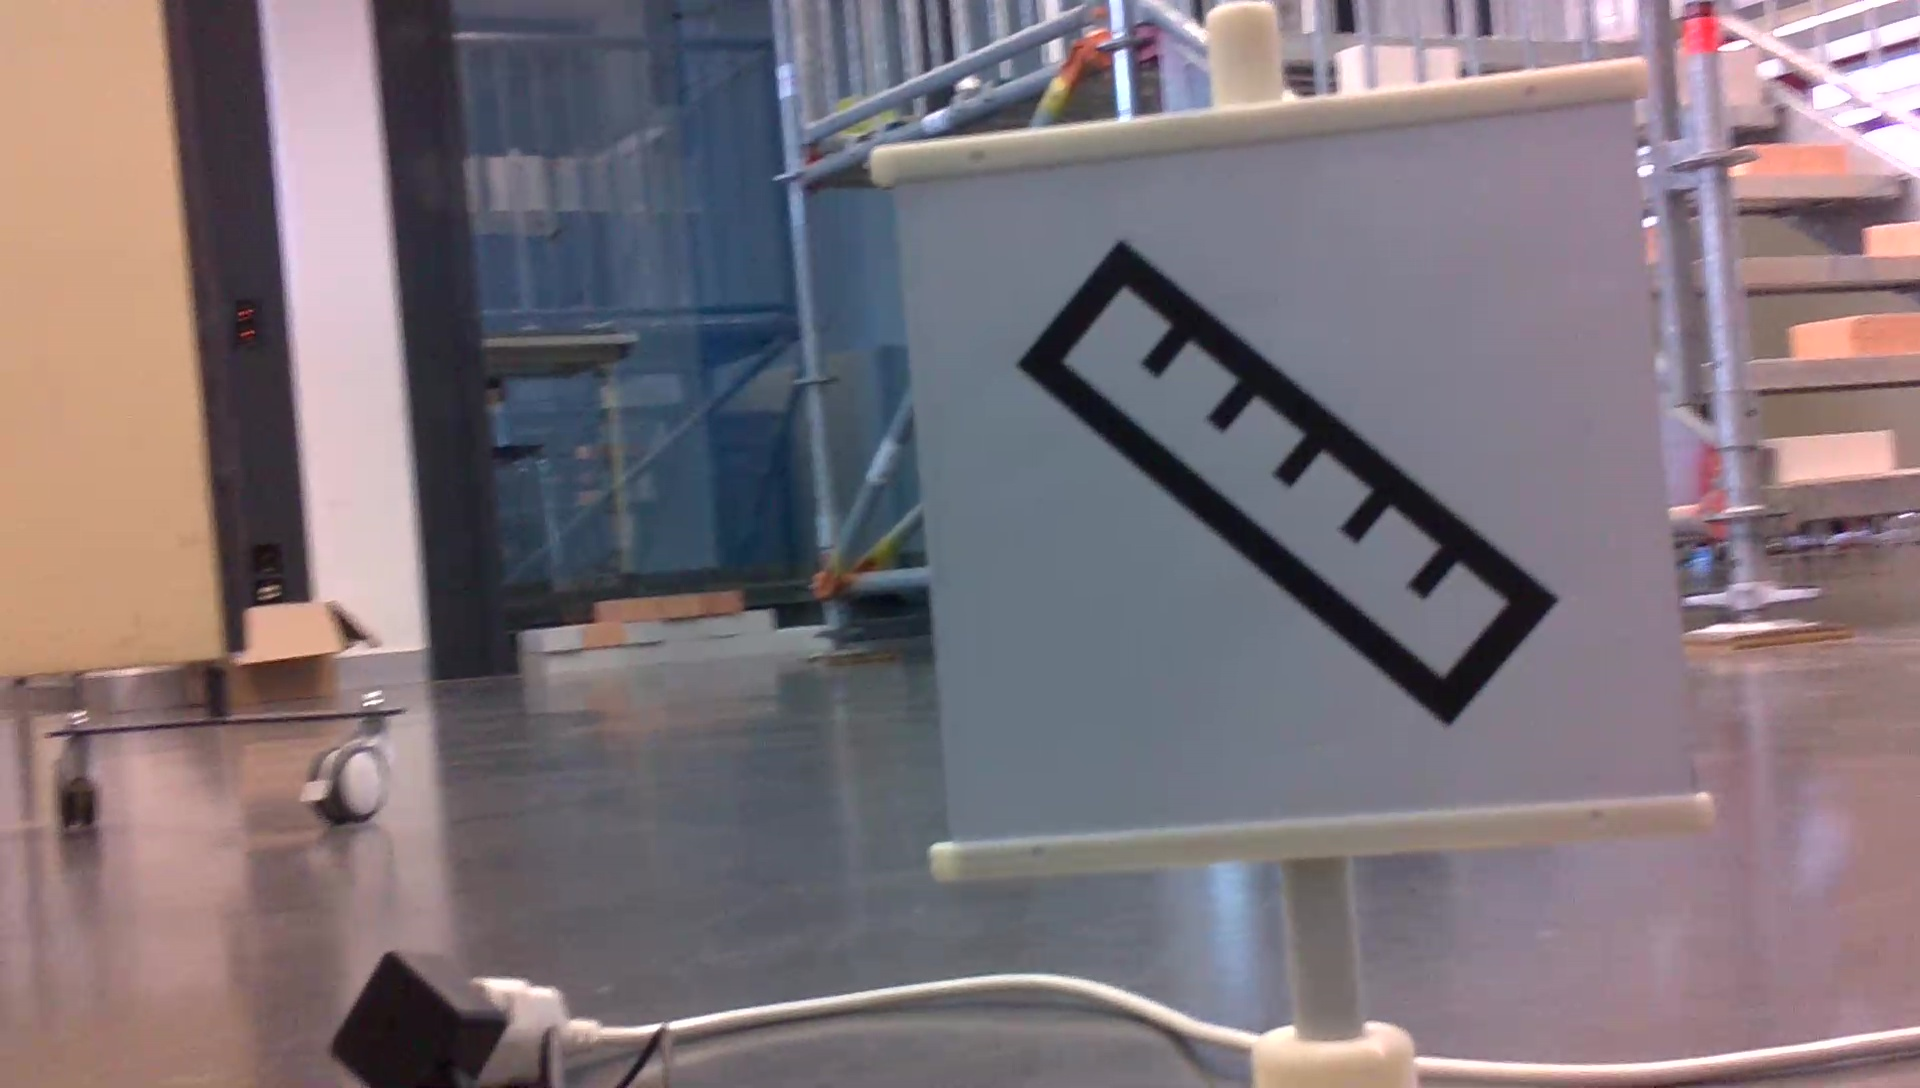brick: (1763, 425, 1896, 481), (1795, 307, 1913, 361), (1737, 141, 1845, 182), (1858, 222, 1920, 257)
ruler: (1031, 235, 1567, 729)
